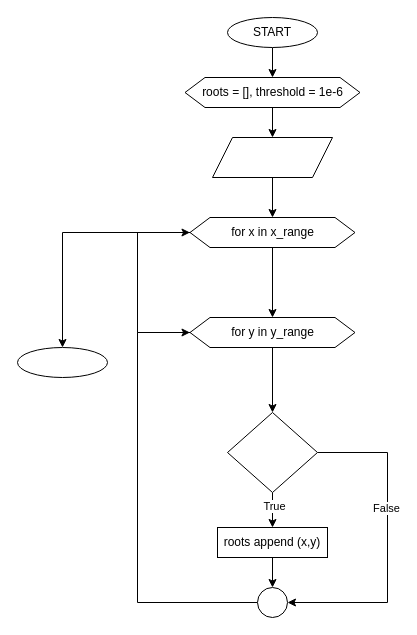
The diagram is 417 pixels wide and 635 high, and some of its shapes have lost their labels. The centre of each missing label's shape, as x and y in pixels:
"END" belongs at point 62,362.
"if f(x, y) < threshold" belongs at point 272,452.
"Input f, x_range, y_range" belongs at point 272,157.
